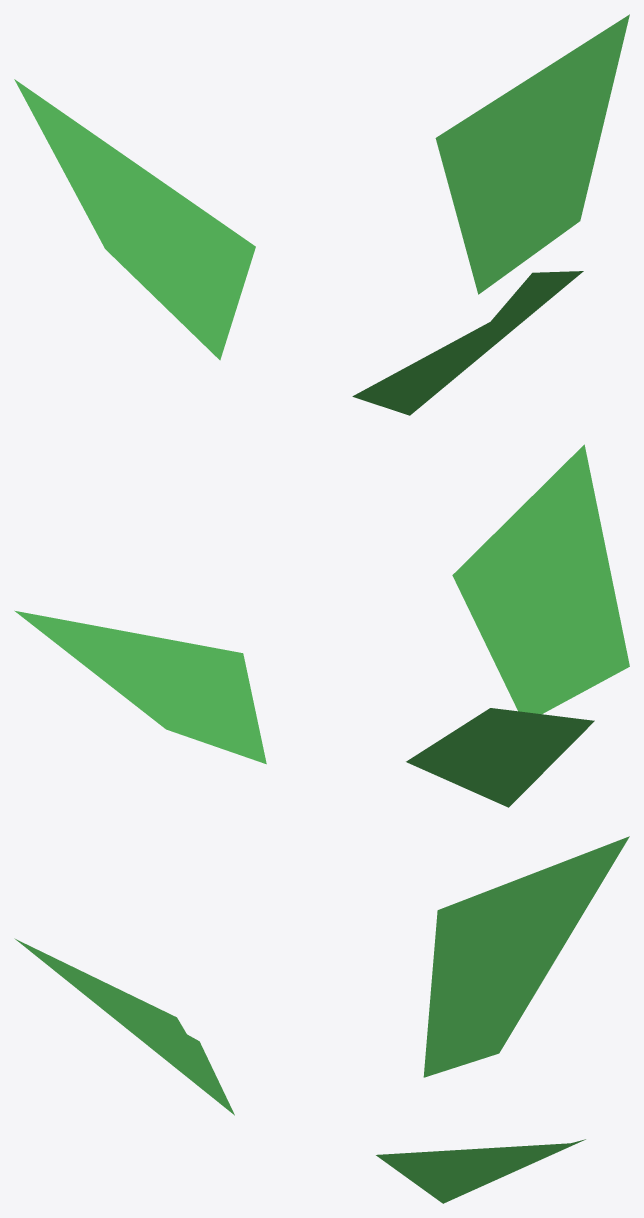
Rendered from lettuce_seeded.glb.
3 renders of one model, top to bottom at view 1: azimuth 30°, elevation 25°; view 2: azimuth 150°, elevation 25°; view 3: azimuth 270°, elevation 25°, orthographic. The views are drawn at different scales.
Parts seen in each view (by area): view 1: Plane, Plane.002, Plane.001; view 2: Plane.001, Plane, Plane.002; view 3: Plane.002, Plane.001, Plane.
Boxes of the visible parts, x1,y1,x2,y2 form: Plane: [435, 14, 629, 294]; Plane.002: [14, 79, 255, 360]; Plane.001: [352, 271, 583, 415]; Plane.001: [452, 444, 629, 714]; Plane: [14, 610, 266, 764]; Plane.002: [406, 708, 594, 807]; Plane.002: [423, 836, 629, 1077]; Plane.001: [14, 938, 234, 1115]; Plane: [376, 1139, 585, 1203].
Size of the model in its own units: 0.8365 by 0.3059 by 0.8222.
